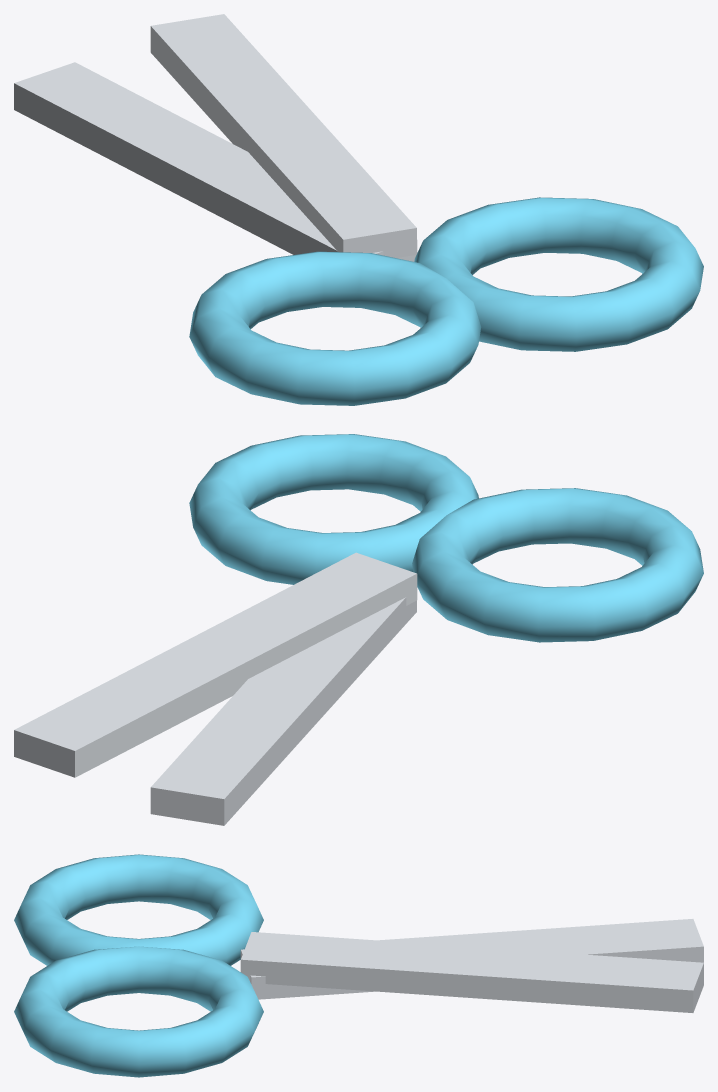
The model's file is ch5_prop_scissors.glb.
3 renders of one model, top to bottom at view 1: azimuth 30°, elevation 25°; view 2: azimuth 150°, elevation 25°; view 3: azimuth 270°, elevation 25°, orthographic. The views are drawn at different scales.
Visible parts, largest first — view 1: ch5_prop_scissors; view 2: ch5_prop_scissors; view 3: ch5_prop_scissors.
Boxes of the visible parts, <box> form: ch5_prop_scissors: <box>14,14,703,405</box>; ch5_prop_scissors: <box>14,434,703,825</box>; ch5_prop_scissors: <box>14,854,703,1077</box>.
Bounding box in the file's own units: 0.112 × 0.012 × 0.1656.
